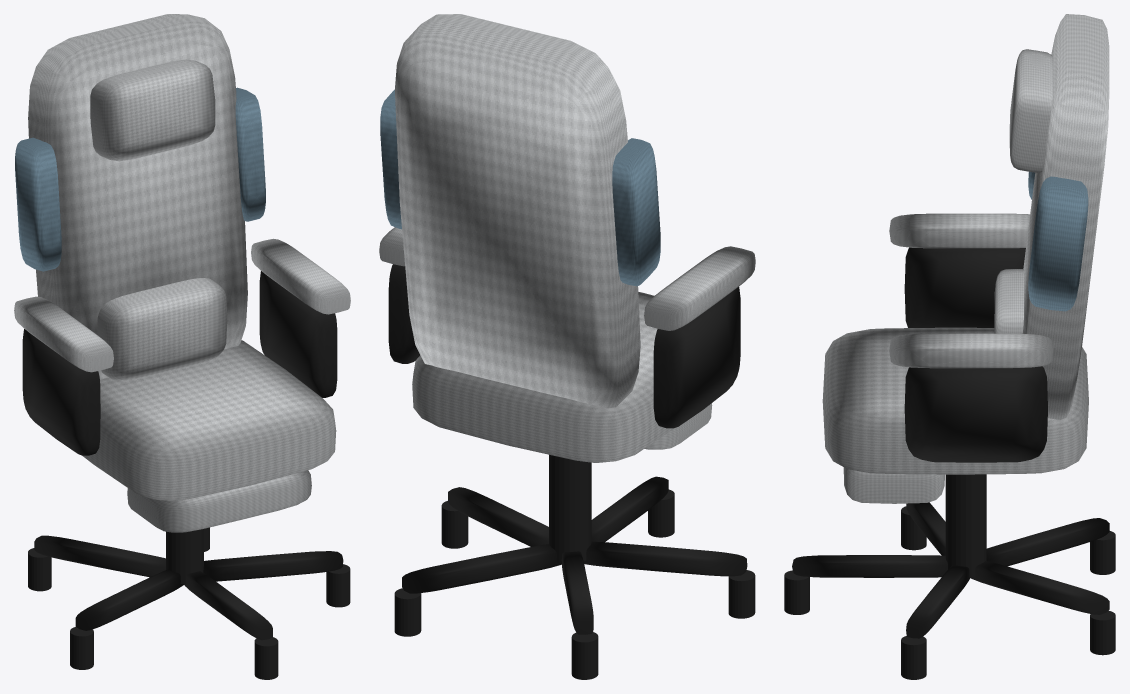
The picture shows the model from 3 angles, left to right: view 1: azimuth 30°, elevation 25°; view 2: azimuth 150°, elevation 25°; view 3: azimuth 270°, elevation 25°; orthographic projection. The views are drawn at different scales.
Visible parts, largest first — view 1: 14 backrest, 12 seat, 17 headrest, 18 lumbar_pillow, 19 left_armrest_frame, 20 right_armrest_frame, 13 footrest, 15 left_back_accent, 21 left_armrest, 22 right_armrest, 16 right_back_accent, 3 base_spoke_2 (+8 smaller); view 2: 14 backrest, 12 seat, 19 left_armrest_frame, 15 left_back_accent, 21 left_armrest, 1 base_hub, 6 base_spoke_5, 4 base_spoke_3, 3 base_spoke_2, 2 base_spoke_1, 20 right_armrest_frame, 16 right_back_accent (+8 smaller); view 3: 12 seat, 14 backrest, 20 right_armrest_frame, 19 left_armrest_frame, 16 right_back_accent, 22 right_armrest, 21 left_armrest, 17 headrest, 1 base_hub, 2 base_spoke_1, 4 base_spoke_3, 13 footrest (+9 smaller).
Boxes of the visible parts, x1,y1,x2,y2 form: 14 backrest: (28,14,247,379); 12 seat: (82,340,336,501); 17 headrest: (90,59,215,161); 18 lumbar_pillow: (97,278,227,380); 19 left_armrest_frame: (22,329,100,455); 20 right_armrest_frame: (259,271,337,397); 13 footrest: (127,470,311,532); 15 left_back_accent: (15,137,61,271); 21 left_armrest: (14,296,113,372); 22 right_armrest: (251,238,350,314); 16 right_back_accent: (235,87,265,221); 3 base_spoke_2: (203,551,343,581); 14 backrest: (394,14,640,408); 12 seat: (412,292,674,462); 19 left_armrest_frame: (653,287,740,428); 15 left_back_accent: (612,138,660,286); 21 left_armrest: (644,246,755,330); 1 base_hub: (549,454,591,563); 6 base_spoke_5: (583,541,747,576); 4 base_spoke_3: (402,544,561,593); 3 base_spoke_2: (448,487,548,546); 2 base_spoke_1: (591,476,668,542); 20 right_armrest_frame: (388,264,419,363); 16 right_back_accent: (380,90,401,229); 12 seat: (822,327,1088,474); 14 backrest: (1022,14,1109,419); 20 right_armrest_frame: (904,366,1047,462); 19 left_armrest_frame: (904,247,1025,327); 16 right_back_accent: (1028,176,1088,311); 22 right_armrest: (889,333,1052,368); 21 left_armrest: (889,213,1029,248); 17 headrest: (1009,49,1052,172); 1 base_hub: (945,474,986,577); 2 base_spoke_1: (792,555,947,577); 4 base_spoke_3: (970,561,1109,614); 13 footrest: (843,467,944,503).
Bounding box in the file's own units: 0.53 × 1 × 0.53.
4 materials, 2 textured.
